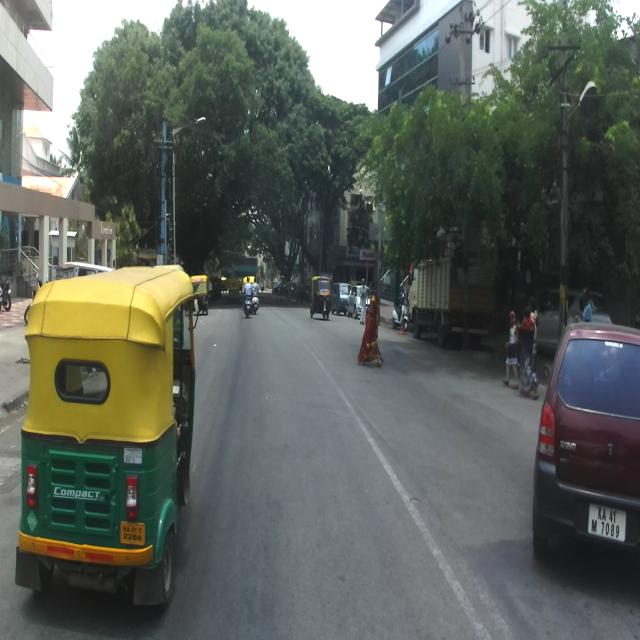auto ahead at: (23, 263, 198, 598)
car ahead at: (531, 319, 640, 582)
person ahead at: (357, 281, 386, 380)
